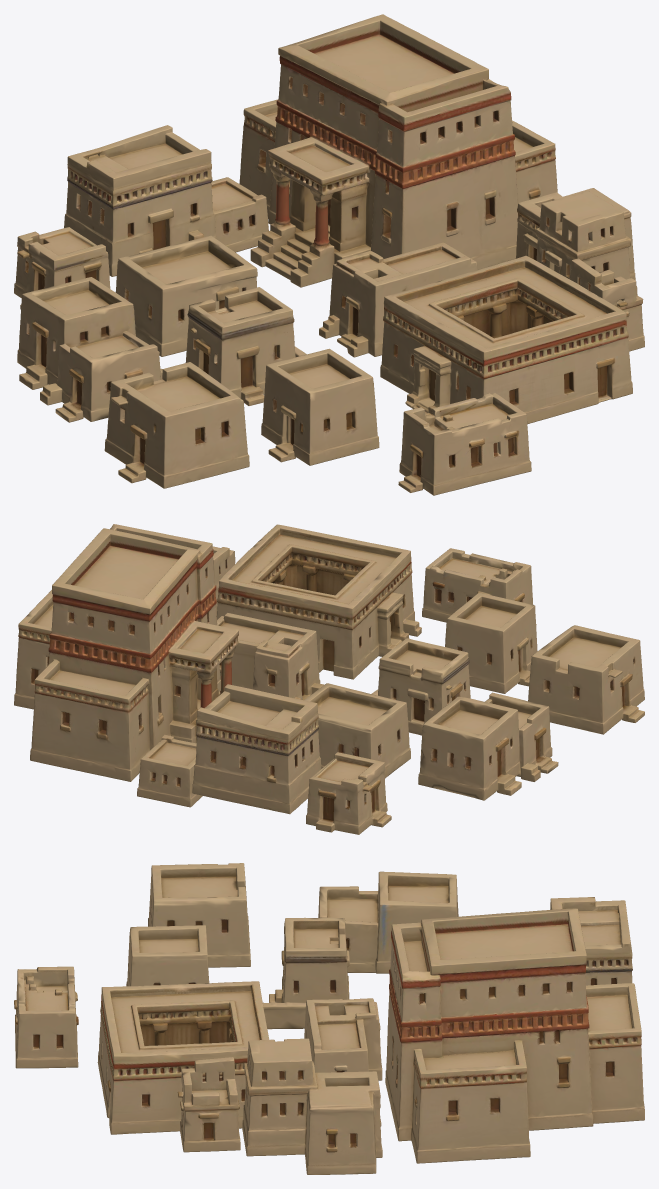
File: Classical Village (Middle Eastern).fbx
3 views of the same model, one above another, from view 1: azimuth 30°, elevation 25°; view 2: azimuth 150°, elevation 25°; view 3: azimuth 270°, elevation 25° (orthographic). The views are drawn at different scales.
Visible parts, largest first — view 1: tripo_node_b1e4f614; view 2: tripo_node_b1e4f614; view 3: tripo_node_b1e4f614.
Part boxes in pixels (left/top/right/bottom): tripo_node_b1e4f614: left=14, top=14, right=644, bottom=495; tripo_node_b1e4f614: left=14, top=524, right=644, bottom=834; tripo_node_b1e4f614: left=14, top=863, right=644, bottom=1174.
Bounding box in the file's own units: 0.9856 × 0.3275 × 1.
